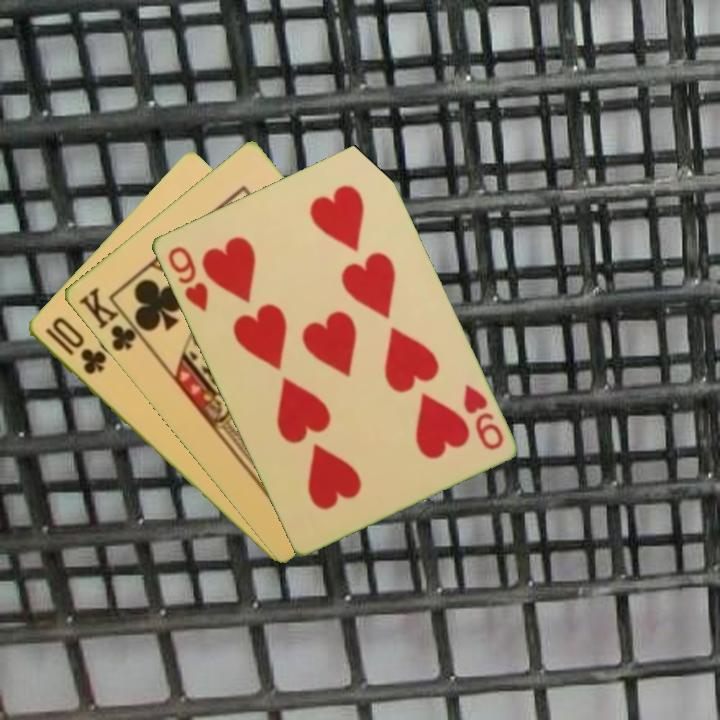10c: (41, 313, 109, 378)
9h: (163, 242, 211, 315), (459, 381, 506, 453)
Kc: (74, 283, 147, 355)
